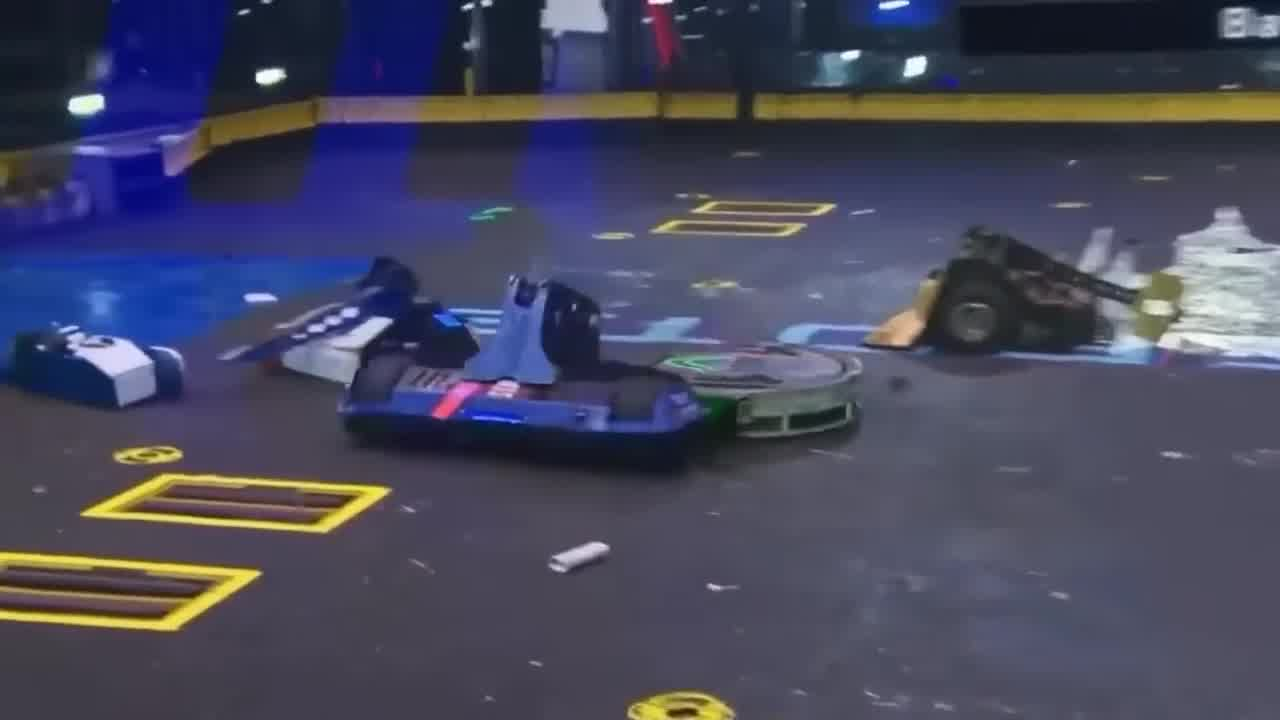combatbot: (330, 274, 708, 477), (868, 220, 1103, 360), (224, 253, 426, 379), (658, 341, 867, 434), (3, 317, 191, 413)
